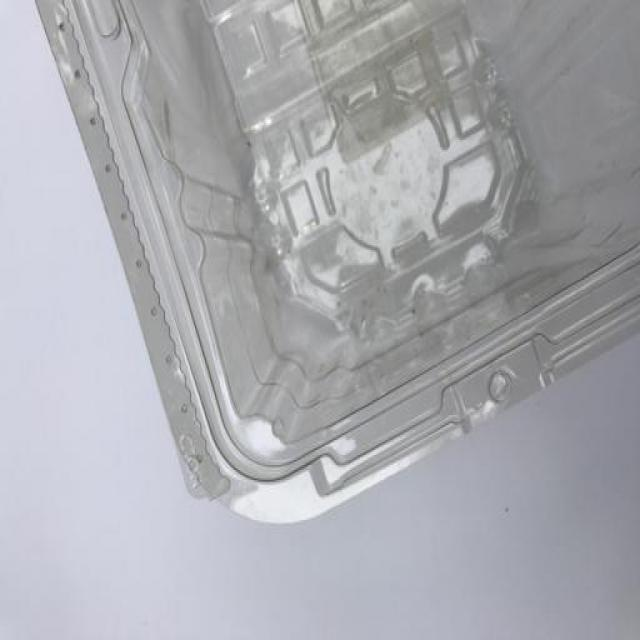Waste: (38, 2, 640, 524)
